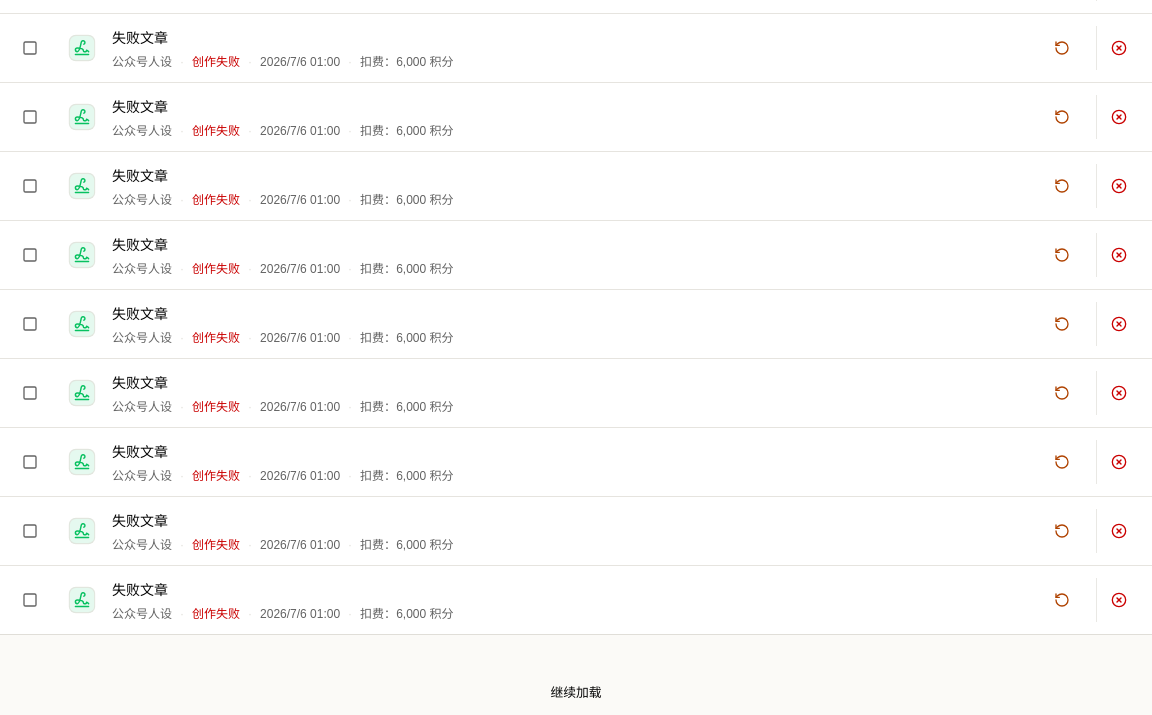
TasksPage URL-driven recovery filters › loads the next task batch from the scroll fallback control
(page scrolled)
Click the button "继续加载". click: (576, 693)
box: 539,671 -> 613,714
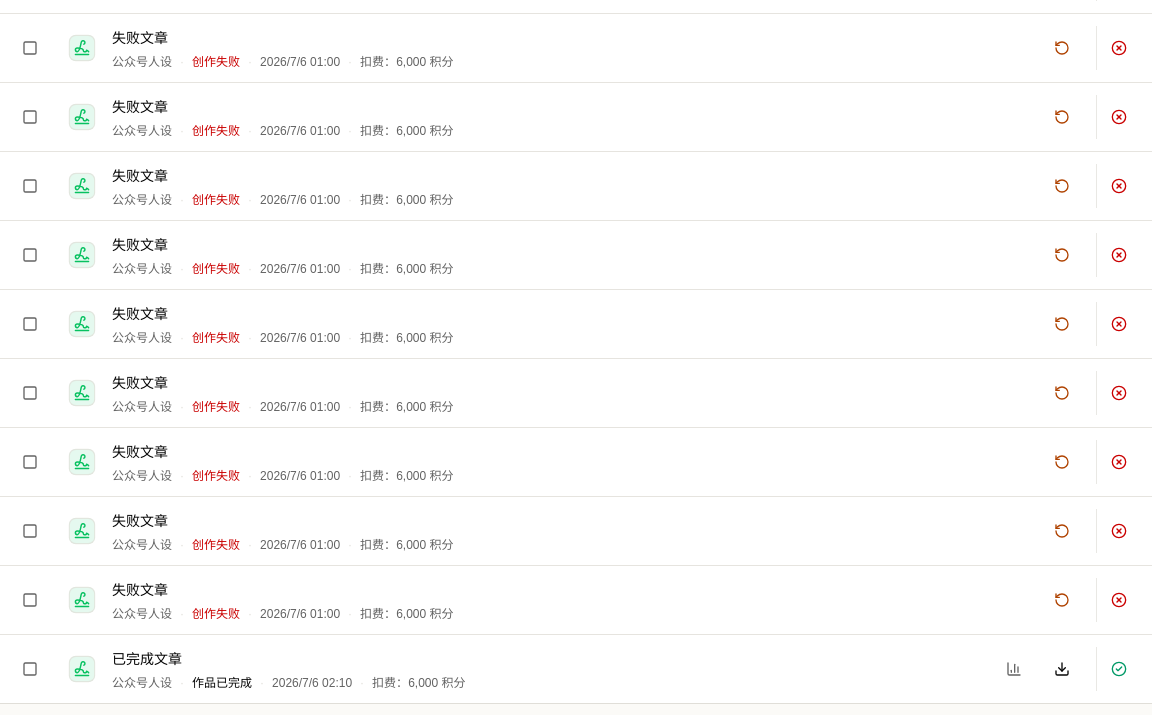
Expected: the heading "已完成文章" is shown, 112,647 -> 182,671
